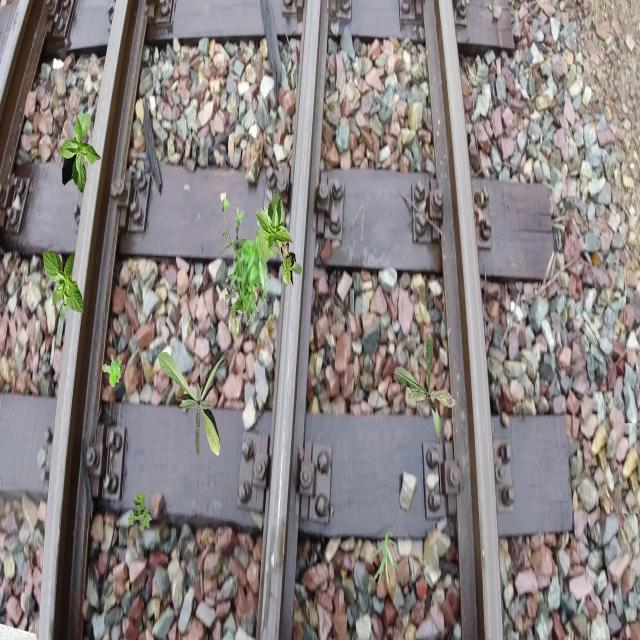Plant: (220, 196, 284, 339), (158, 350, 230, 458), (394, 333, 458, 445), (255, 193, 303, 288), (60, 113, 102, 193), (42, 249, 84, 320), (372, 530, 398, 586), (128, 491, 152, 532), (102, 355, 122, 388)
